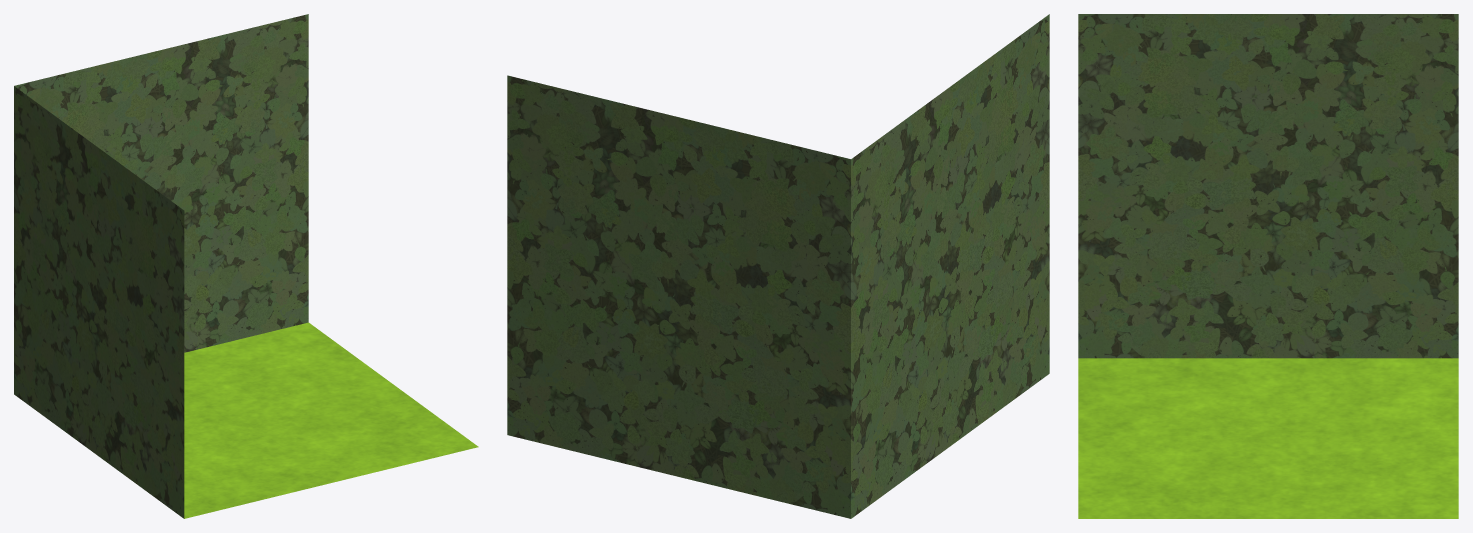
File: garden_wall_bush_corner.glb
3 views of the same model, side by side, from view 1: azimuth 30°, elevation 25°; view 2: azimuth 150°, elevation 25°; view 3: azimuth 270°, elevation 25° (orthographic). The views are drawn at different scales.
Parts seen in each view (by area): view 1: ground; view 2: ground; view 3: ground.
Boxes of the visible parts, x1,y1,x2,y2 form: ground: [14, 14, 478, 518]; ground: [507, 14, 1049, 518]; ground: [1078, 14, 1458, 518].
Size of the model in its own units: 2 by 2 by 2.
2 materials, 2 textured.
